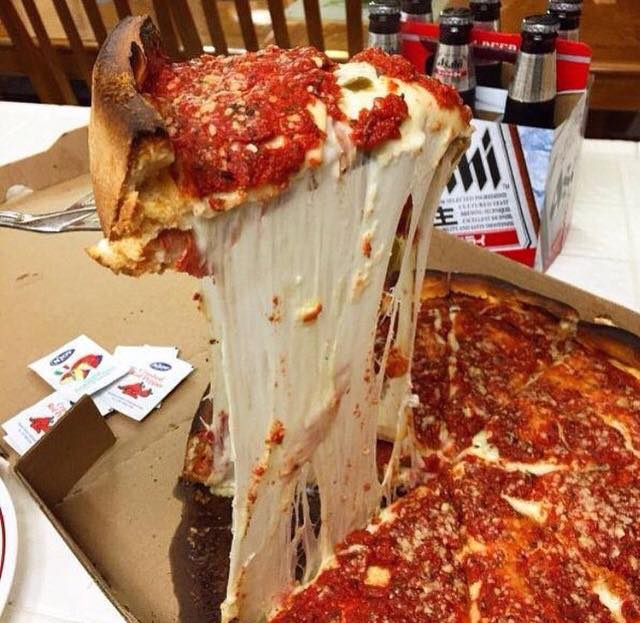cheese: (214, 218, 394, 538), (285, 82, 410, 191)
